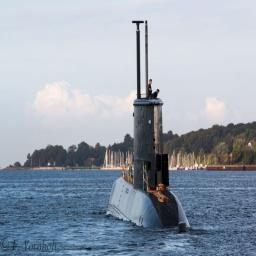submarine: (106, 22, 193, 230)
